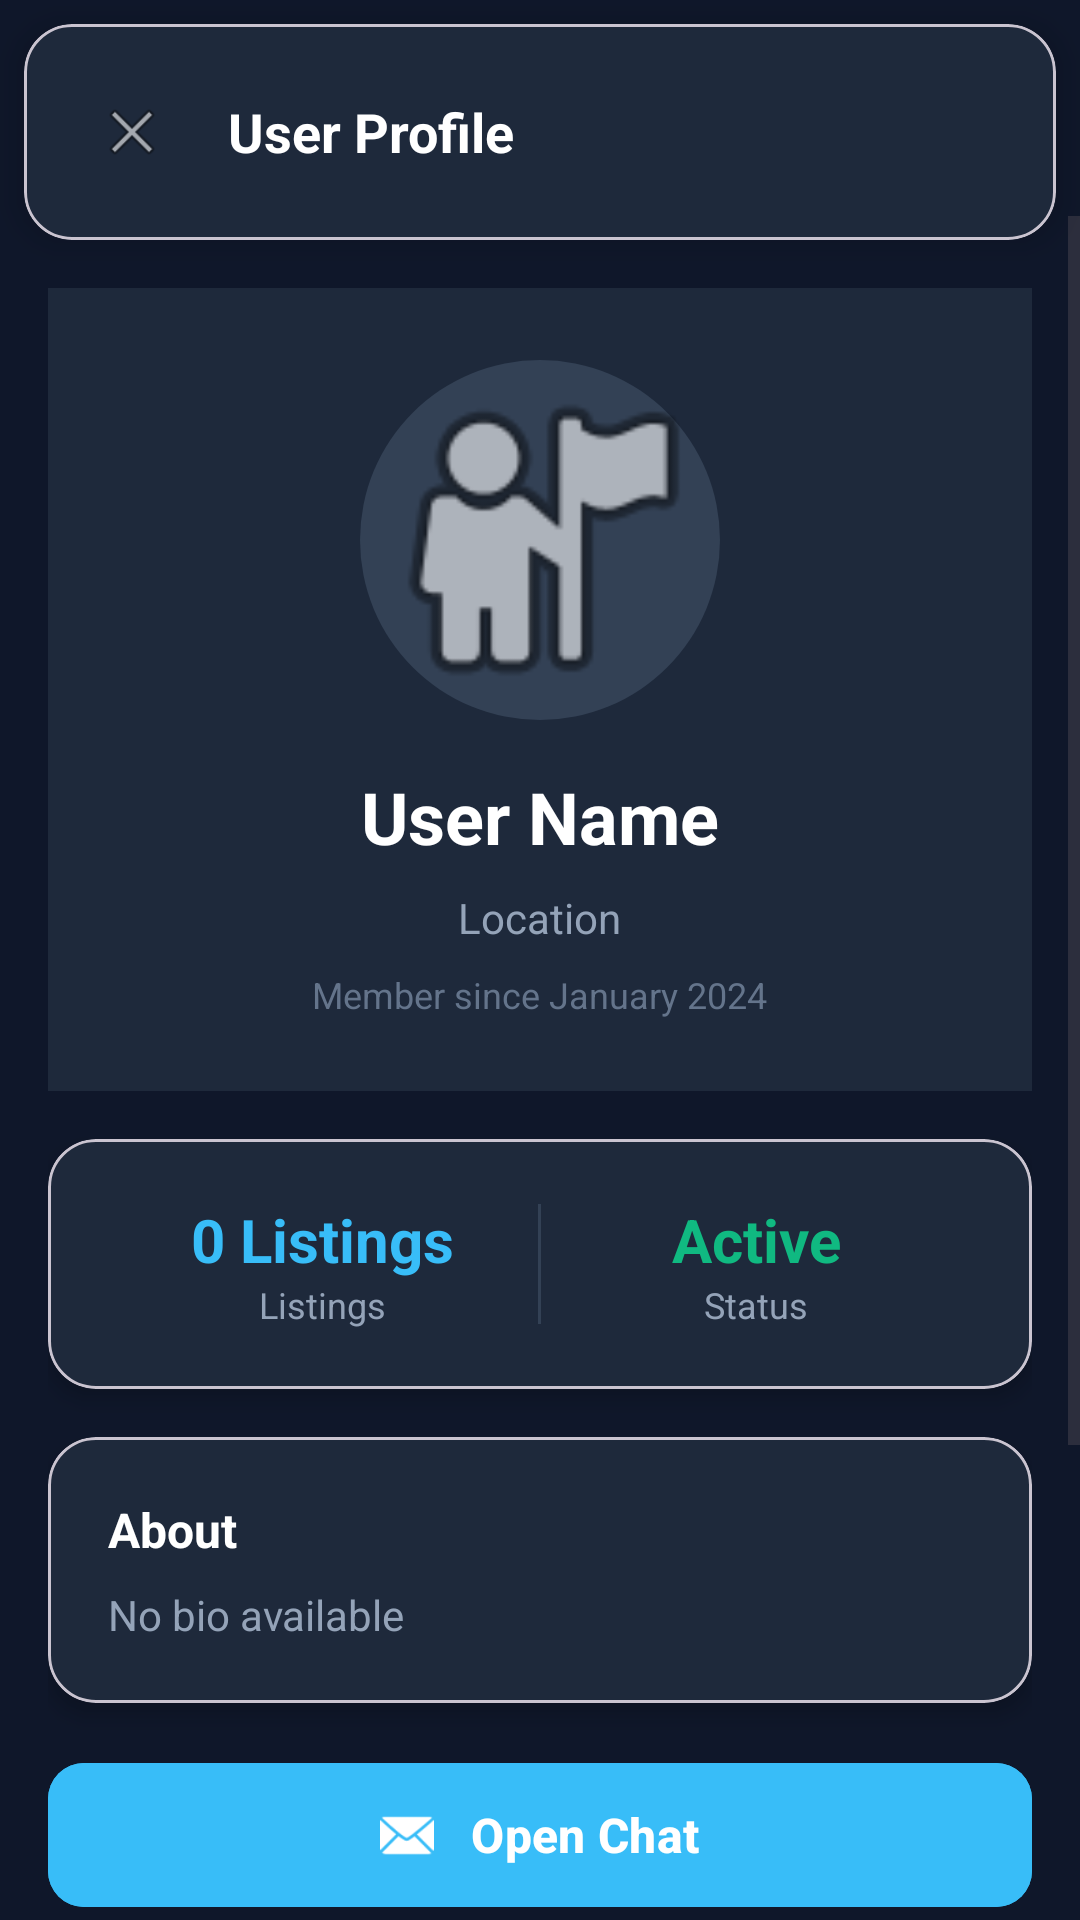

Named icons in this screenshot (1080×1920) and their bounding boxes, (x1, y1, x2, y2):
close clear cancel: (112, 111, 152, 153)
myplaces: (361, 360, 719, 720)
